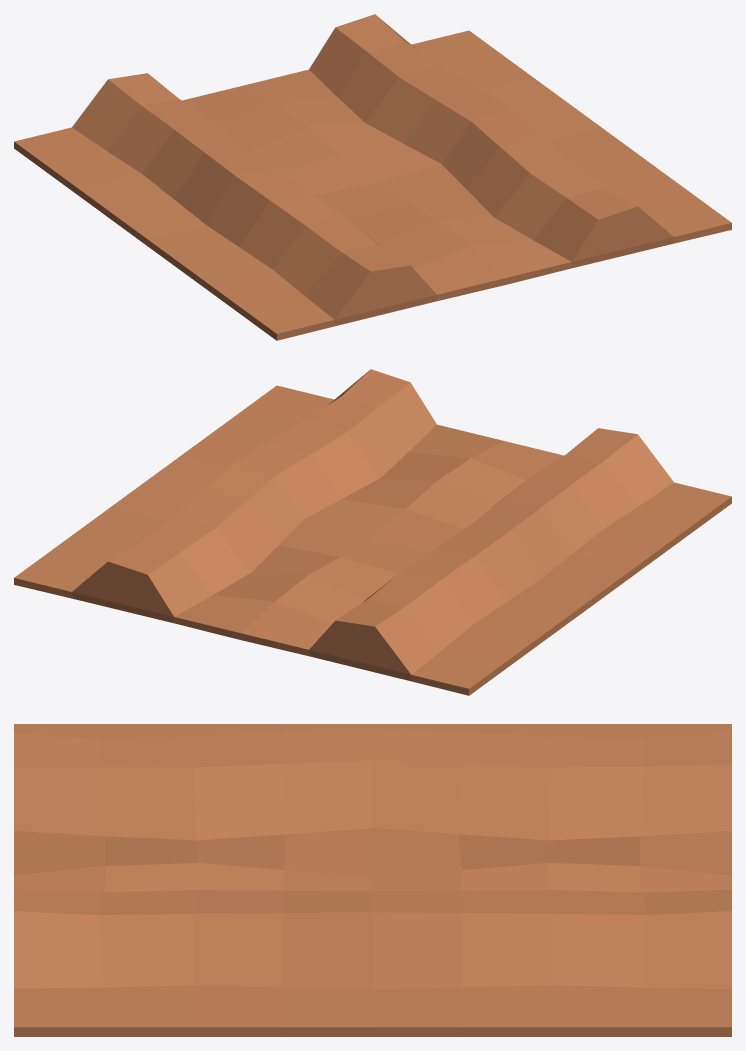
File: Ridge.fbx
The picture shows the model from 3 angles, top to bottom: view 1: azimuth 30°, elevation 25°; view 2: azimuth 150°, elevation 25°; view 3: azimuth 270°, elevation 25°; orthographic projection. The views are drawn at different scales.
Parts seen in each view (by area): view 1: Plane.002; view 2: Plane.002; view 3: Plane.002.
Boxes of the visible parts, x1,y1,x2,y2 form: Plane.002: [14, 14, 731, 340]; Plane.002: [14, 369, 731, 695]; Plane.002: [14, 724, 731, 1036].
Bounding box in the file's own units: 100 × 10 × 100.
